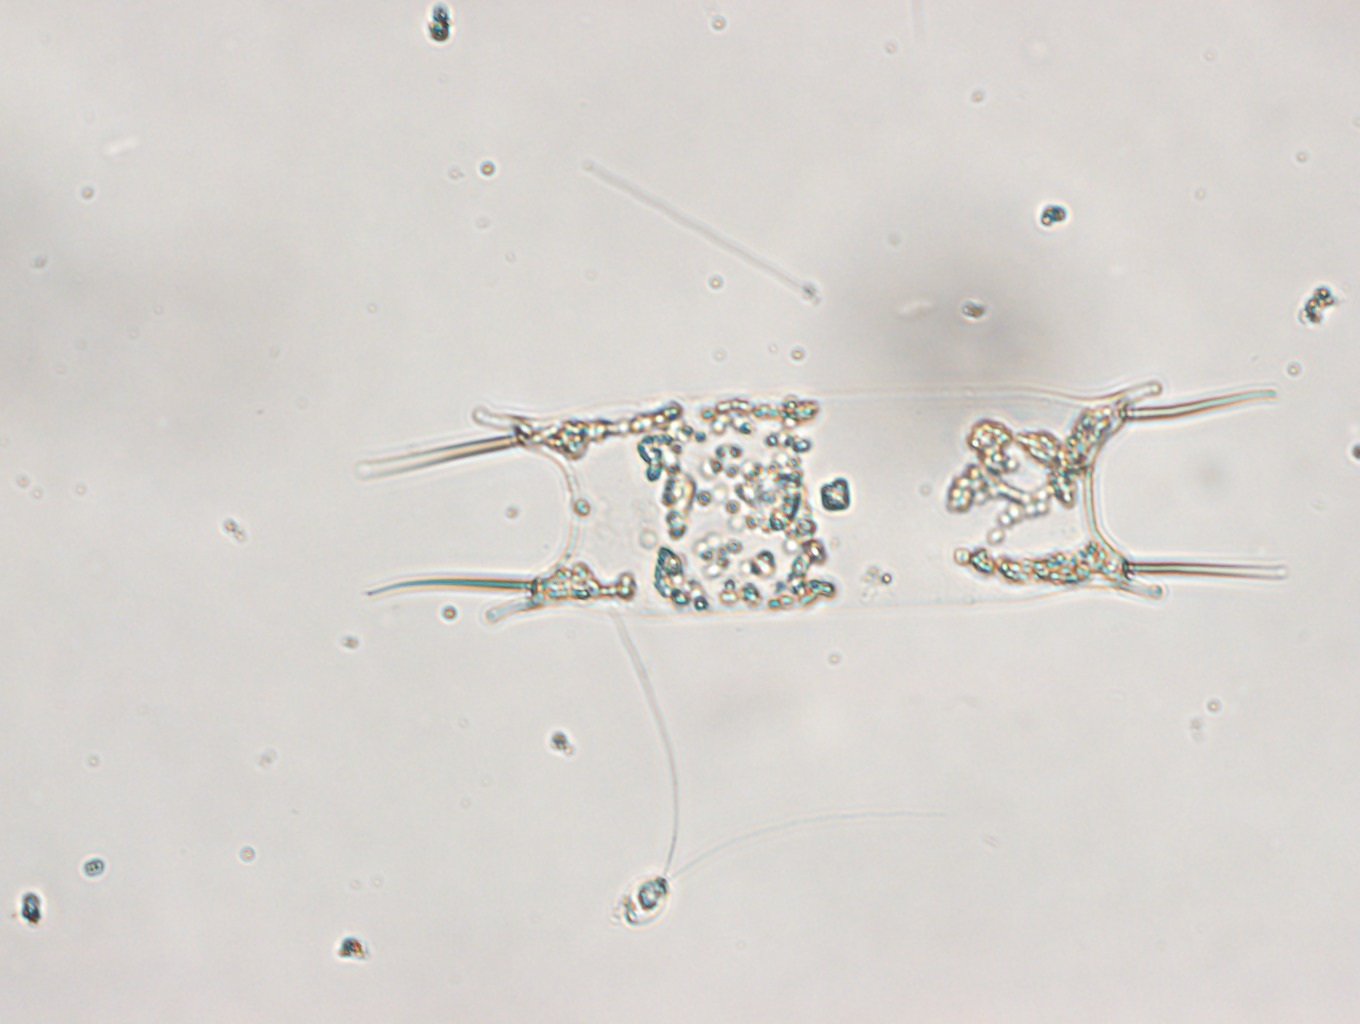biddulphia: (352, 378, 1291, 624)
chaetoceros: (621, 614, 940, 928)
